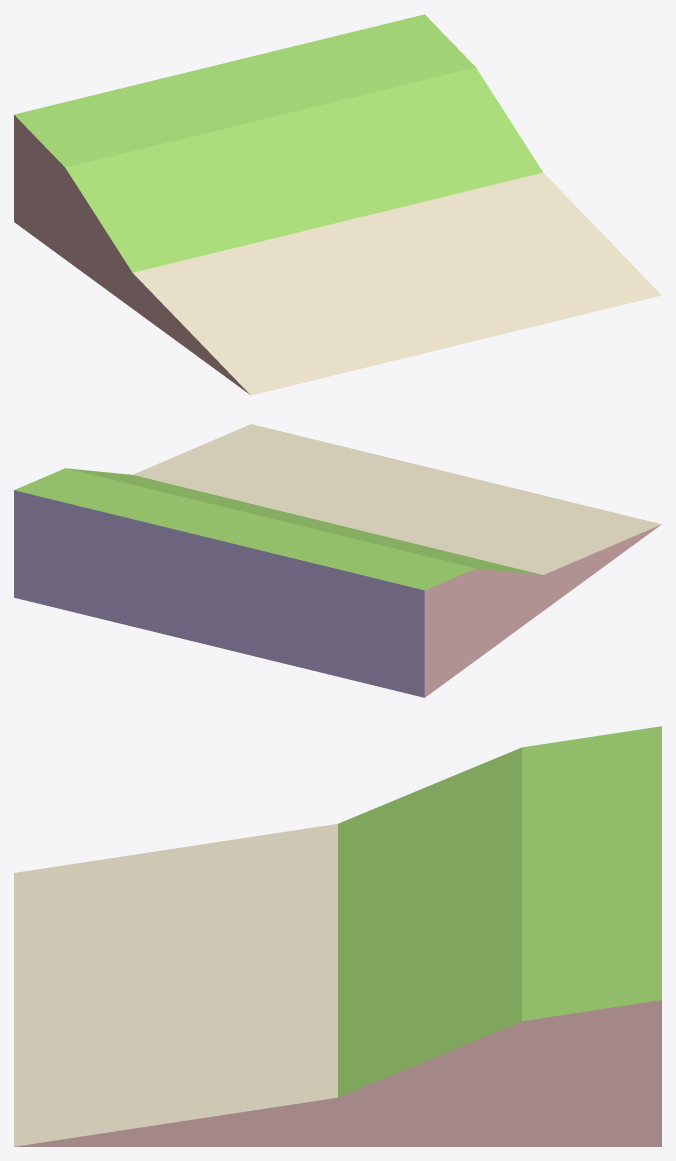
Rendered from Path_Terrain_Basic_Straight_1x1.glb.
3 renders of one model, top to bottom at view 1: azimuth 30°, elevation 25°; view 2: azimuth 150°, elevation 25°; view 3: azimuth 270°, elevation 25°, orthographic. The views are drawn at different scales.
Parts seen in each view (by area): view 1: Path_Terrain_Basic_Straight_1x1; view 2: Path_Terrain_Basic_Straight_1x1; view 3: Path_Terrain_Basic_Straight_1x1.
Boxes of the visible parts, <box> form: Path_Terrain_Basic_Straight_1x1: <box>14,14,661,395</box>; Path_Terrain_Basic_Straight_1x1: <box>14,424,661,697</box>; Path_Terrain_Basic_Straight_1x1: <box>14,726,661,1146</box>.
Size of the model in its own units: 100 by 25 by 100.
